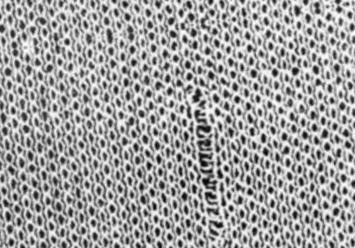slub: (188, 86, 226, 236)
